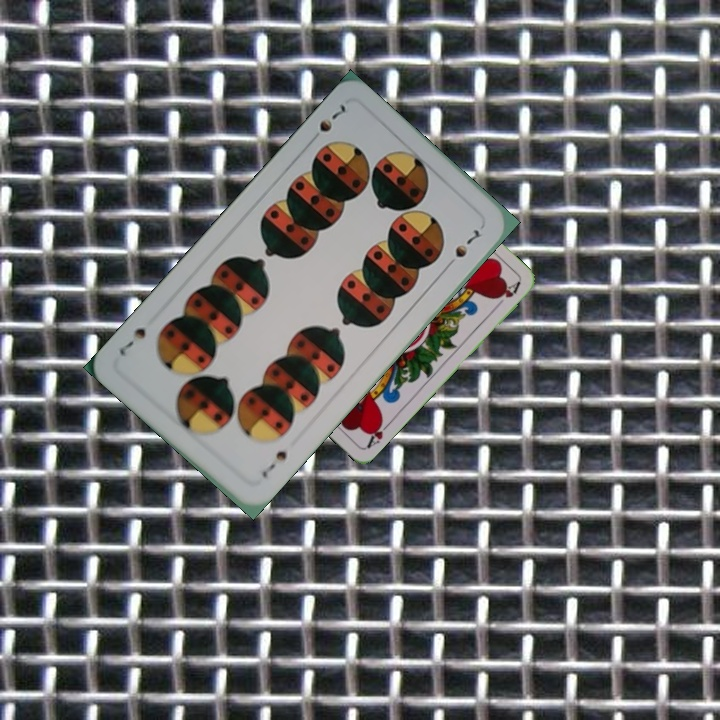HA: (362, 415, 394, 451)
S7: (304, 100, 348, 147), (258, 446, 290, 481)
